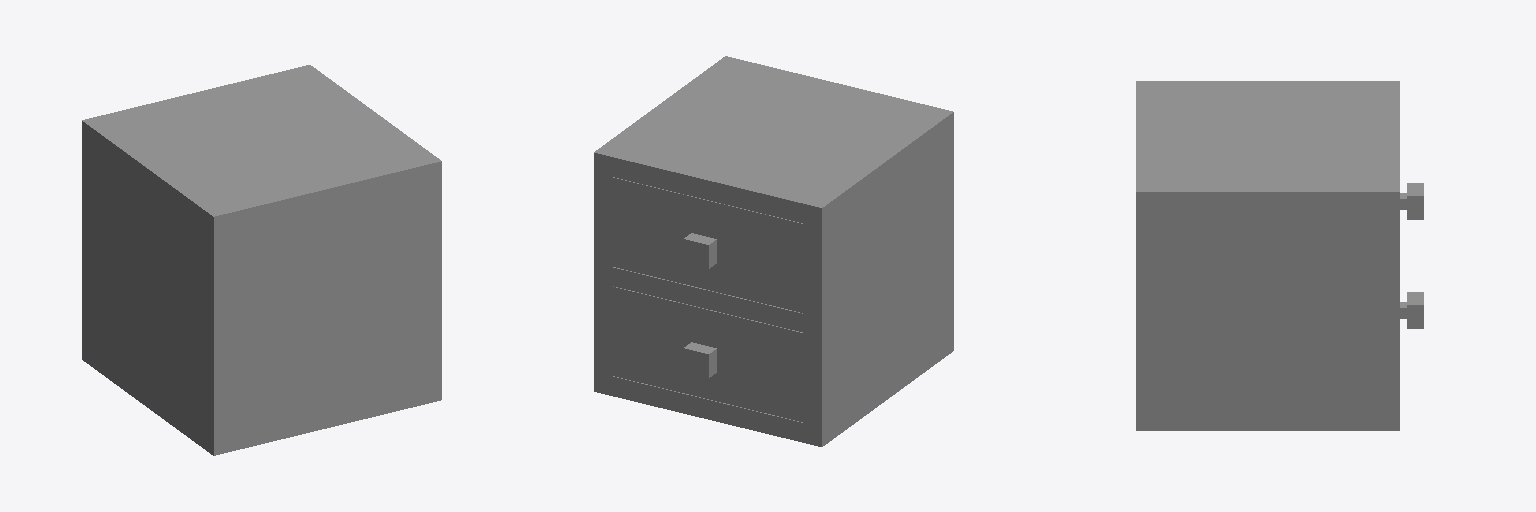
The model's file is kitchen_wooden_cabinet_1.obj.
3 renders of one model, left to right at view 1: azimuth 30°, elevation 25°; view 2: azimuth 150°, elevation 25°; view 3: azimuth 270°, elevation 25°, orthographic.
Parts seen in each view (by area): view 1: Cube.000; view 2: Cube.000, Cube.002, Cube.001; view 3: Cube.000, Cube.002, Cube.001.
Boxes of the visible parts, x1=… form: Cube.000: x1=82, y1=65, x2=441, y2=455; Cube.000: x1=594, y1=56, x2=953, y2=446; Cube.002: x1=613, y1=287, x2=802, y2=421; Cube.001: x1=613, y1=177, x2=802, y2=312; Cube.000: x1=1136, y1=81, x2=1399, y2=430; Cube.002: x1=1400, y1=292, x2=1423, y2=328; Cube.001: x1=1400, y1=183, x2=1423, y2=219.
Bounding box in the file's own units: 2 × 2 × 2.18.